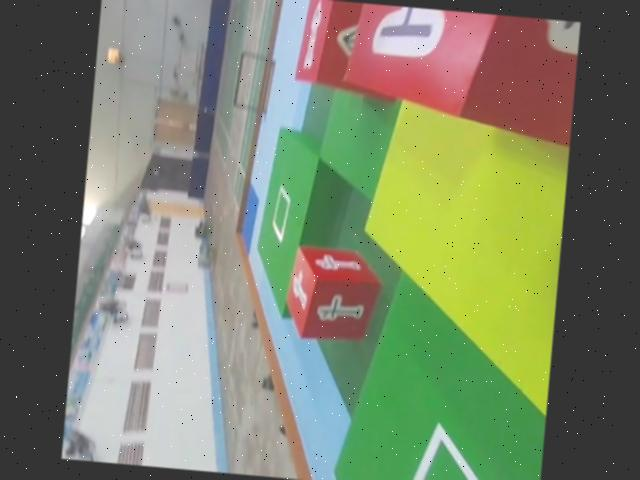R2 Real: (279, 238, 386, 346)
